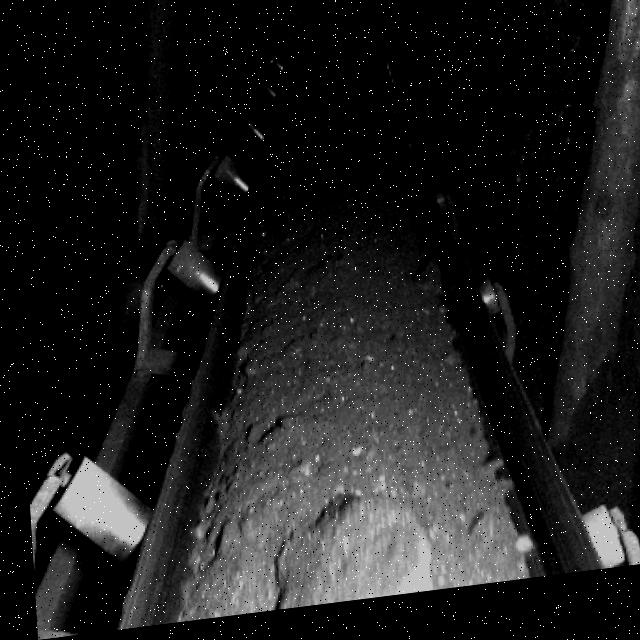large_sized_coal: (256, 496, 434, 617), (402, 269, 440, 314)
